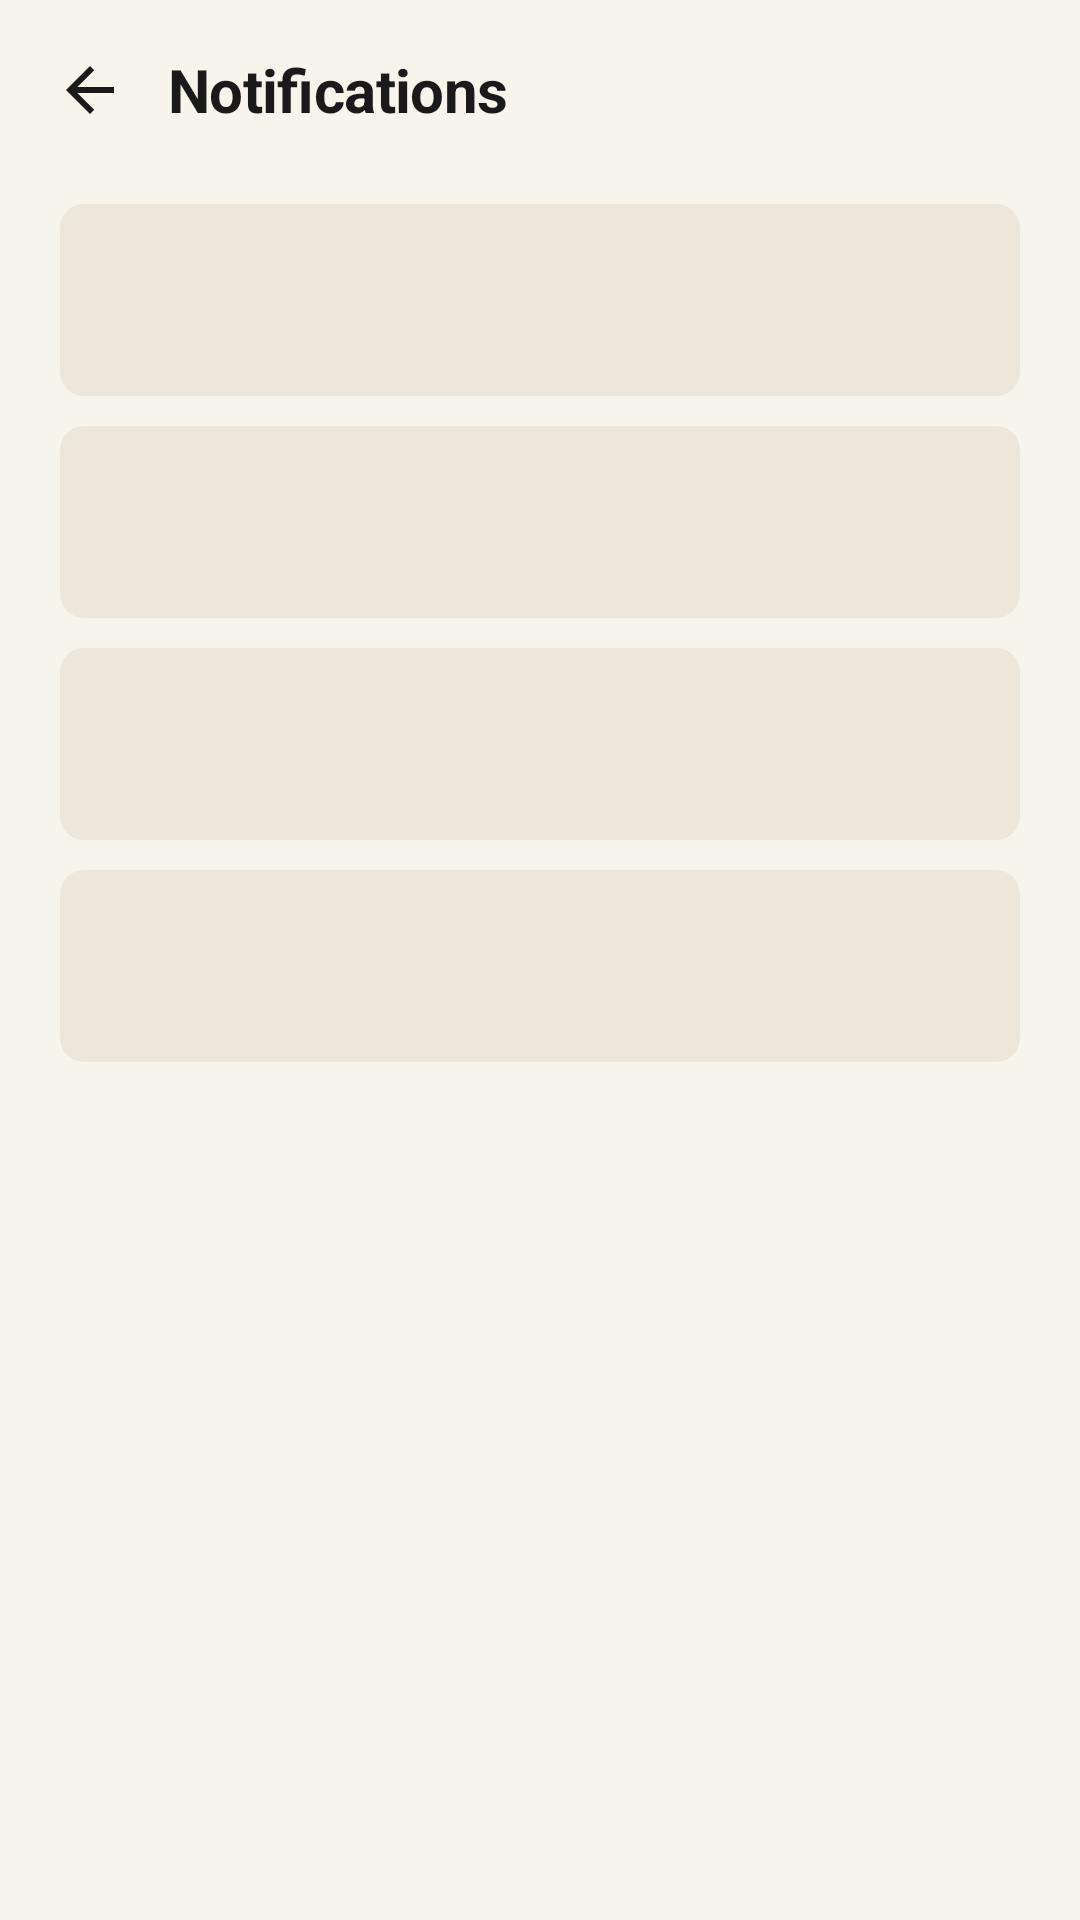

Icon click points for this 1080x1920 phone screenshot, format (x=x, y=y):
Back: (x=90, y=90)
